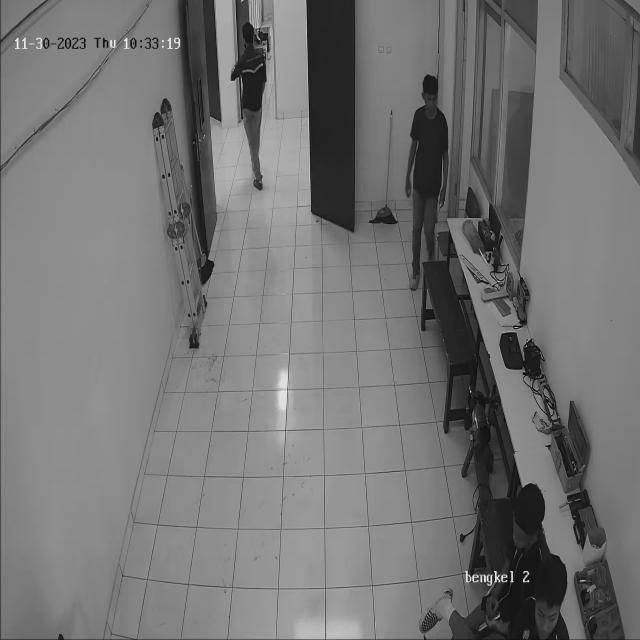person: (226, 15, 275, 194)
